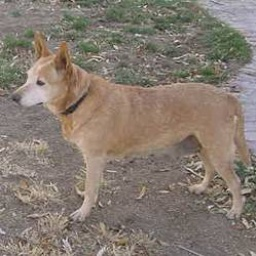dog: (9, 30, 248, 226)
